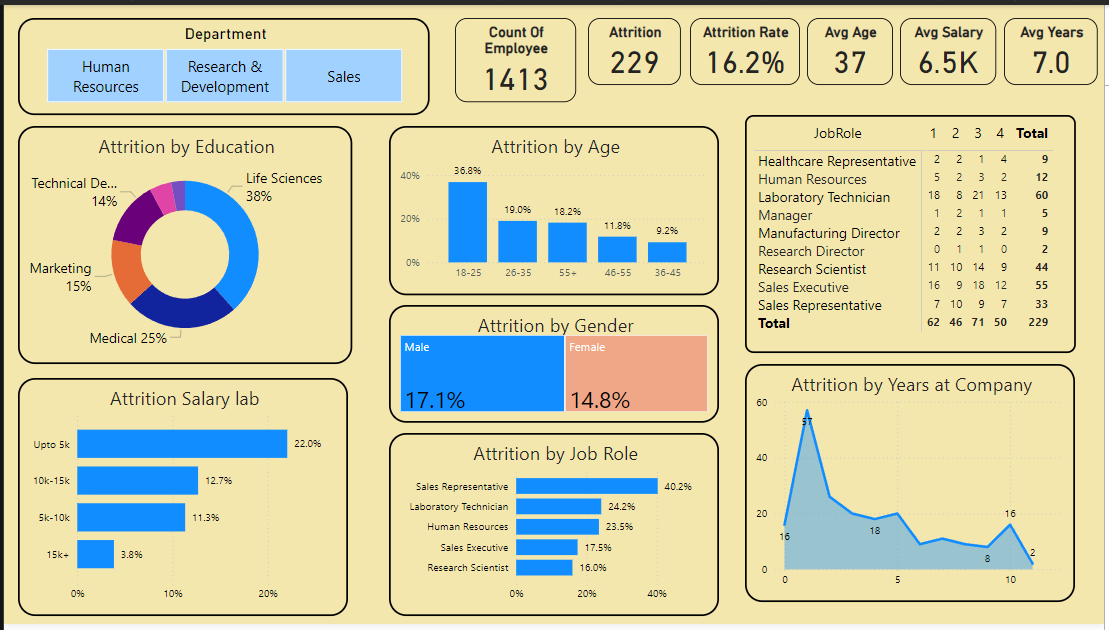

What the dashboard file says about the page in this screenshot:
{"tool":"powerbi","page":{"name":"Page 1","canvas":[1280,720],"ordinal":0},"visuals":[{"type":"card","title":"Count Of Employee","fields":{"Values":["CountNonNull(HR_Analytics.EmpID)"]},"box":[524.8,15.1,140.8,97.7],"z":0},{"type":"card","title":"Attrition","fields":{"Values":["Sum(HR_Analytics.Custom)"]},"box":[679.6,15.1,108.2,78],"z":1000},{"type":"card","title":"Attrition Rate","fields":{"Values":["HR_Analytics.AttritionRate"]},"box":[798.3,15.1,128,78],"z":2000},{"type":"card","title":"Avg Age","fields":{"Values":["Avg(HR_Analytics.Age)"]},"box":[934.4,15.1,100.1,78],"z":3000},{"type":"card","title":"Avg Salary","fields":{"Values":["Avg(HR_Analytics.MonthlyIncome)"]},"box":[1042.6,15.1,111.7,78],"z":4000},{"type":"card","title":"Avg Years","fields":{"Values":["Avg(HR_Analytics.YearsAtCompany)"]},"box":[1163.6,15.1,109.4,78],"z":5000},{"type":"donutChart","title":"Attrition by Education","fields":{"Category":["HR_Analytics.EducationField"],"Y":["Sum(HR_Analytics.AttCo)"]},"box":[16.3,140.8,388.7,276.9],"z":6000},{"type":"columnChart","title":"Attrition by Age","fields":{"Category":["HR_Analytics.AgeGroup"],"Y":["HR_Analytics.AttritionRate"]},"box":[448,140.8,384,196.7],"z":7000},{"type":"pivotTable","fields":{"Rows":["HR_Analytics.JobRole"],"Columns":["HR_Analytics.JobSatisfaction"],"Values":["Sum(HR_Analytics.AttCo)"]},"box":[862.3,128,385.2,276.9],"z":8000},{"type":"clusteredBarChart","title":"Attrition by Job Role","fields":{"Category":["HR_Analytics.JobRole"],"Y":["HR_Analytics.AttritionRate"]},"box":[448,498,384,212.9],"z":9000},{"type":"clusteredBarChart","title":"Attrition Salary lab","fields":{"Category":["HR_Analytics.SalarySlab"],"Y":["HR_Analytics.AttritionRate"]},"box":[16.3,434,384,276.9],"z":10000},{"type":"areaChart","title":"Attrition by Years at Company","fields":{"Category":["HR_Analytics.YearsAtCompany"],"Y":["Sum(HR_Analytics.AttCo)"]},"box":[862.3,417.7,384,276.9],"z":11000},{"type":"treemap","title":"Attrition by Gender","fields":{"Group":["HR_Analytics.Gender"],"Values":["HR_Analytics.AttritionRate"]},"box":[448,349.1,384,137.3],"z":12000},{"type":"slicer","title":"Department","fields":{"Values":["HR_Analytics.Department"]},"box":[16.3,15.1,479.4,112.9],"z":13000}]}

Visuals, with their boxes in screenshot pixels (x1, y1, x2, y2), scaled from the page's 1280x720 canvas onto the 1109x630 screenshot:
"Count Of Employee" card: bbox=[455, 13, 577, 99]
"Attrition" card: bbox=[589, 13, 683, 81]
"Attrition Rate" card: bbox=[692, 13, 803, 81]
"Avg Age" card: bbox=[810, 13, 896, 81]
"Avg Salary" card: bbox=[903, 13, 1000, 81]
"Avg Years" card: bbox=[1008, 13, 1103, 81]
"Attrition by Education" donutChart: bbox=[14, 123, 351, 365]
"Attrition by Age" columnChart: bbox=[388, 123, 721, 295]
pivotTable - HR_Analytics.JobRole x HR_Analytics.JobSatisfaction: bbox=[747, 112, 1081, 354]
"Attrition by Job Role" clusteredBarChart: bbox=[388, 436, 721, 622]
"Attrition Salary lab" clusteredBarChart: bbox=[14, 380, 347, 622]
"Attrition by Years at Company" areaChart: bbox=[747, 365, 1080, 608]
"Attrition by Gender" treemap: bbox=[388, 305, 721, 426]
"Department" slicer: bbox=[14, 13, 429, 112]
